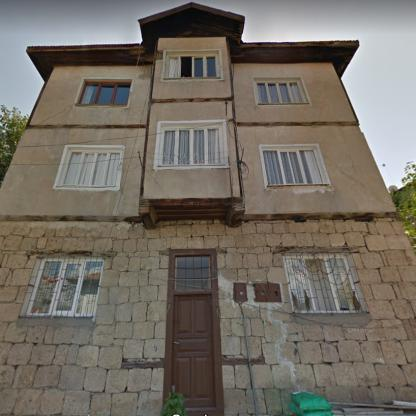door: (172, 297, 214, 408)
window: (284, 256, 362, 311), (28, 260, 103, 316), (161, 128, 222, 165), (61, 150, 120, 187), (262, 150, 323, 185), (174, 253, 213, 290), (76, 82, 132, 106), (167, 53, 219, 78), (257, 81, 305, 103)
